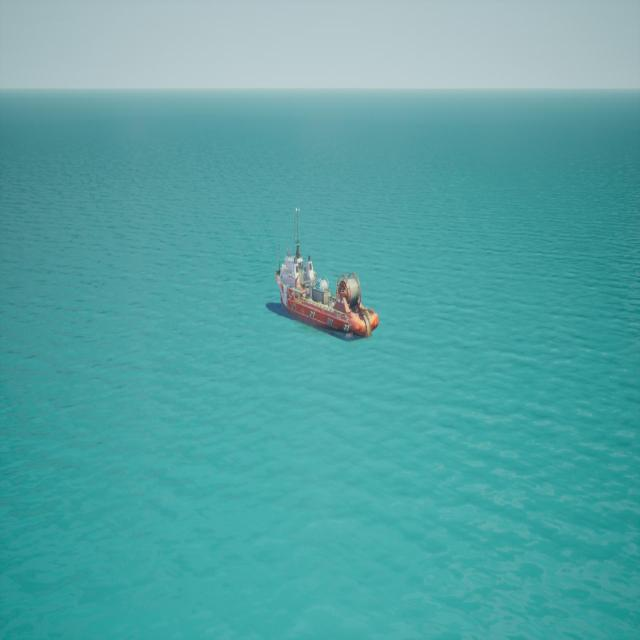tug boat: (268, 203, 378, 346)
